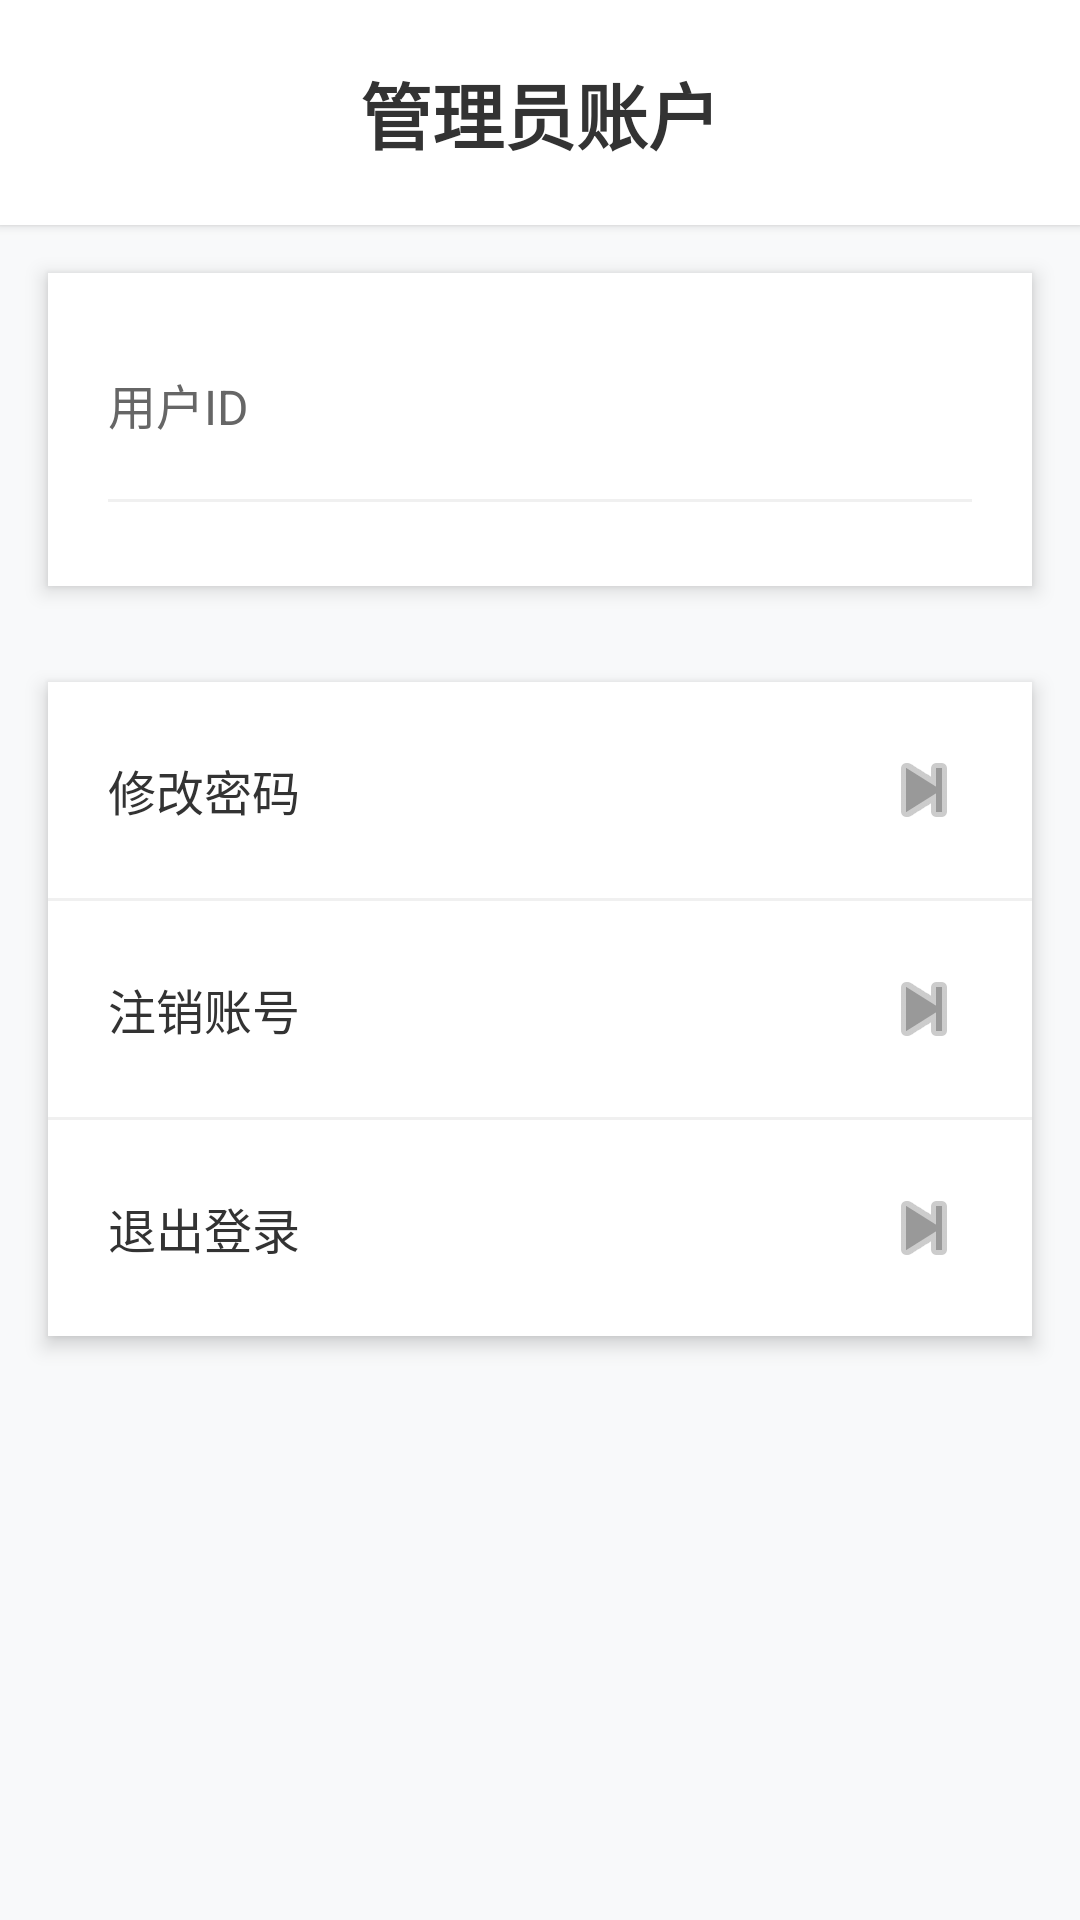

Icon click points for this 1080x1920 phone screenshot, format (x,y):
next: (924,790), (924,1009), (924,1228)
